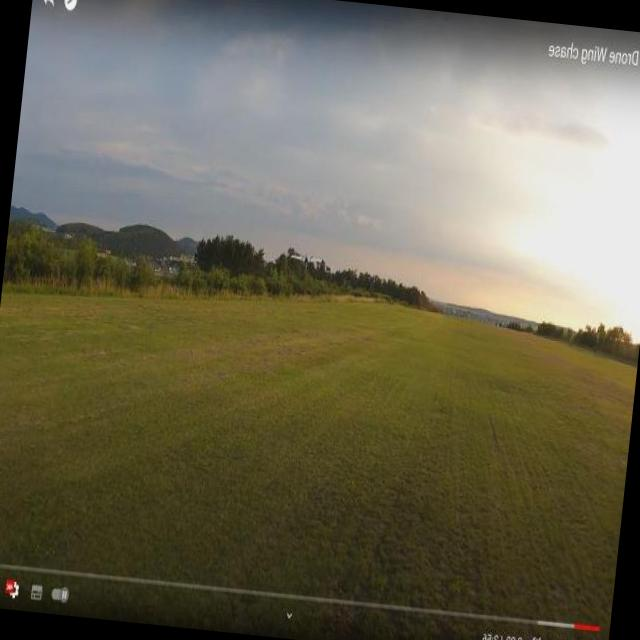UAV: (266, 233, 304, 267)
